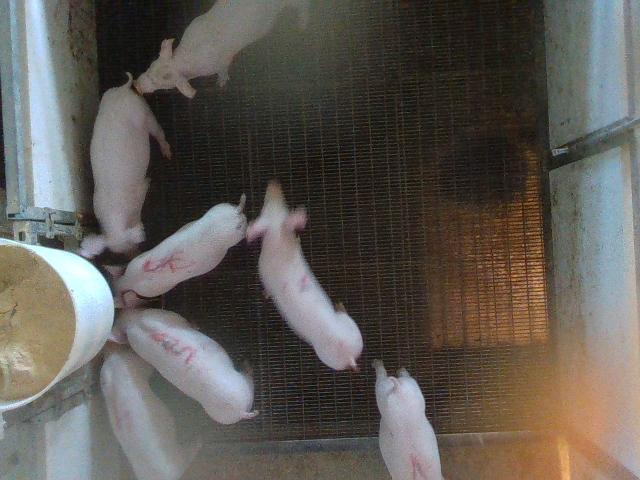pig-1: (372, 359, 442, 478)
pig-3: (111, 309, 258, 424)
pig-4: (100, 344, 186, 479)
pig-5: (104, 195, 248, 307)
